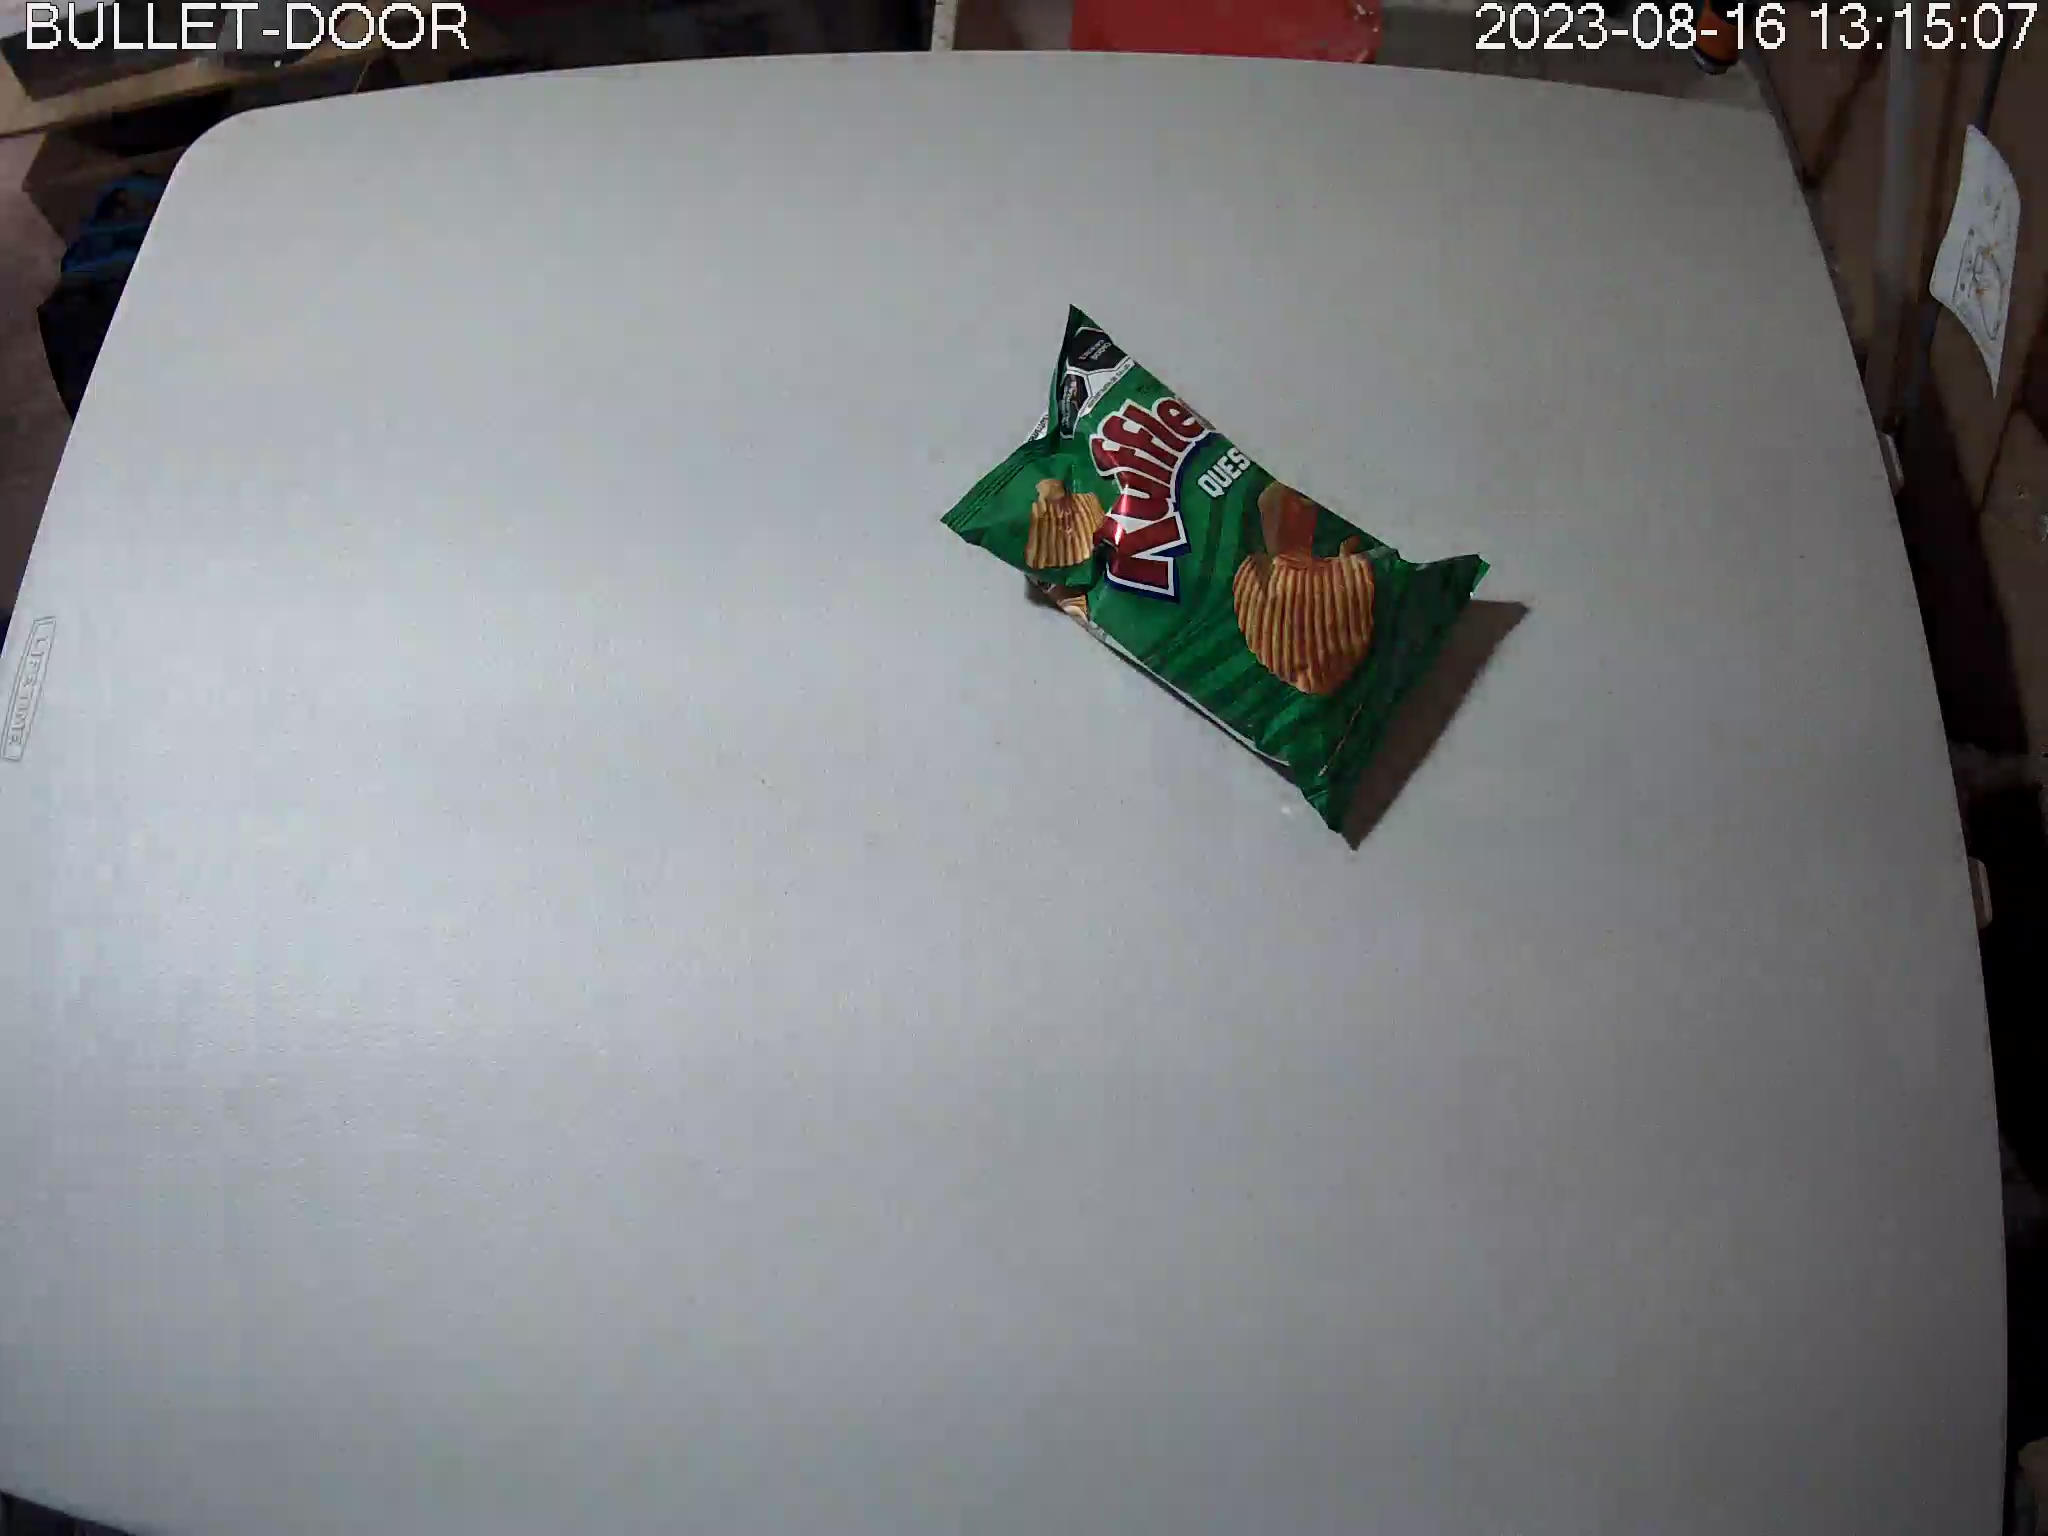RufflesQ_48_F: (939, 297, 1492, 841)
